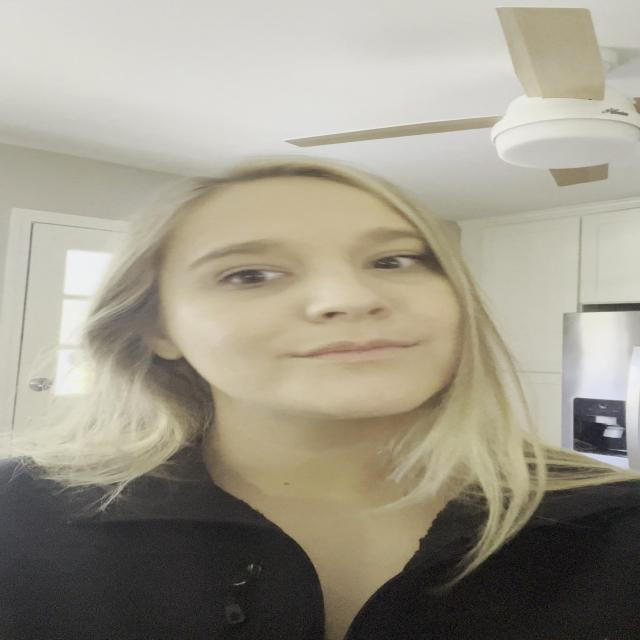no hat: (122, 179, 512, 461)
